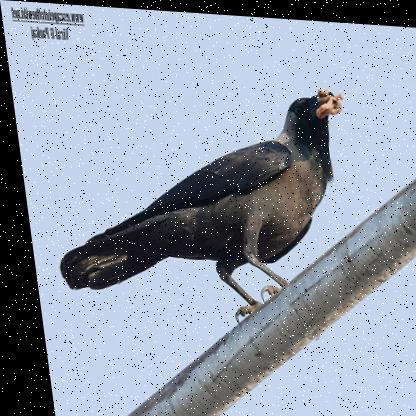Burung: (33, 71, 356, 330)
